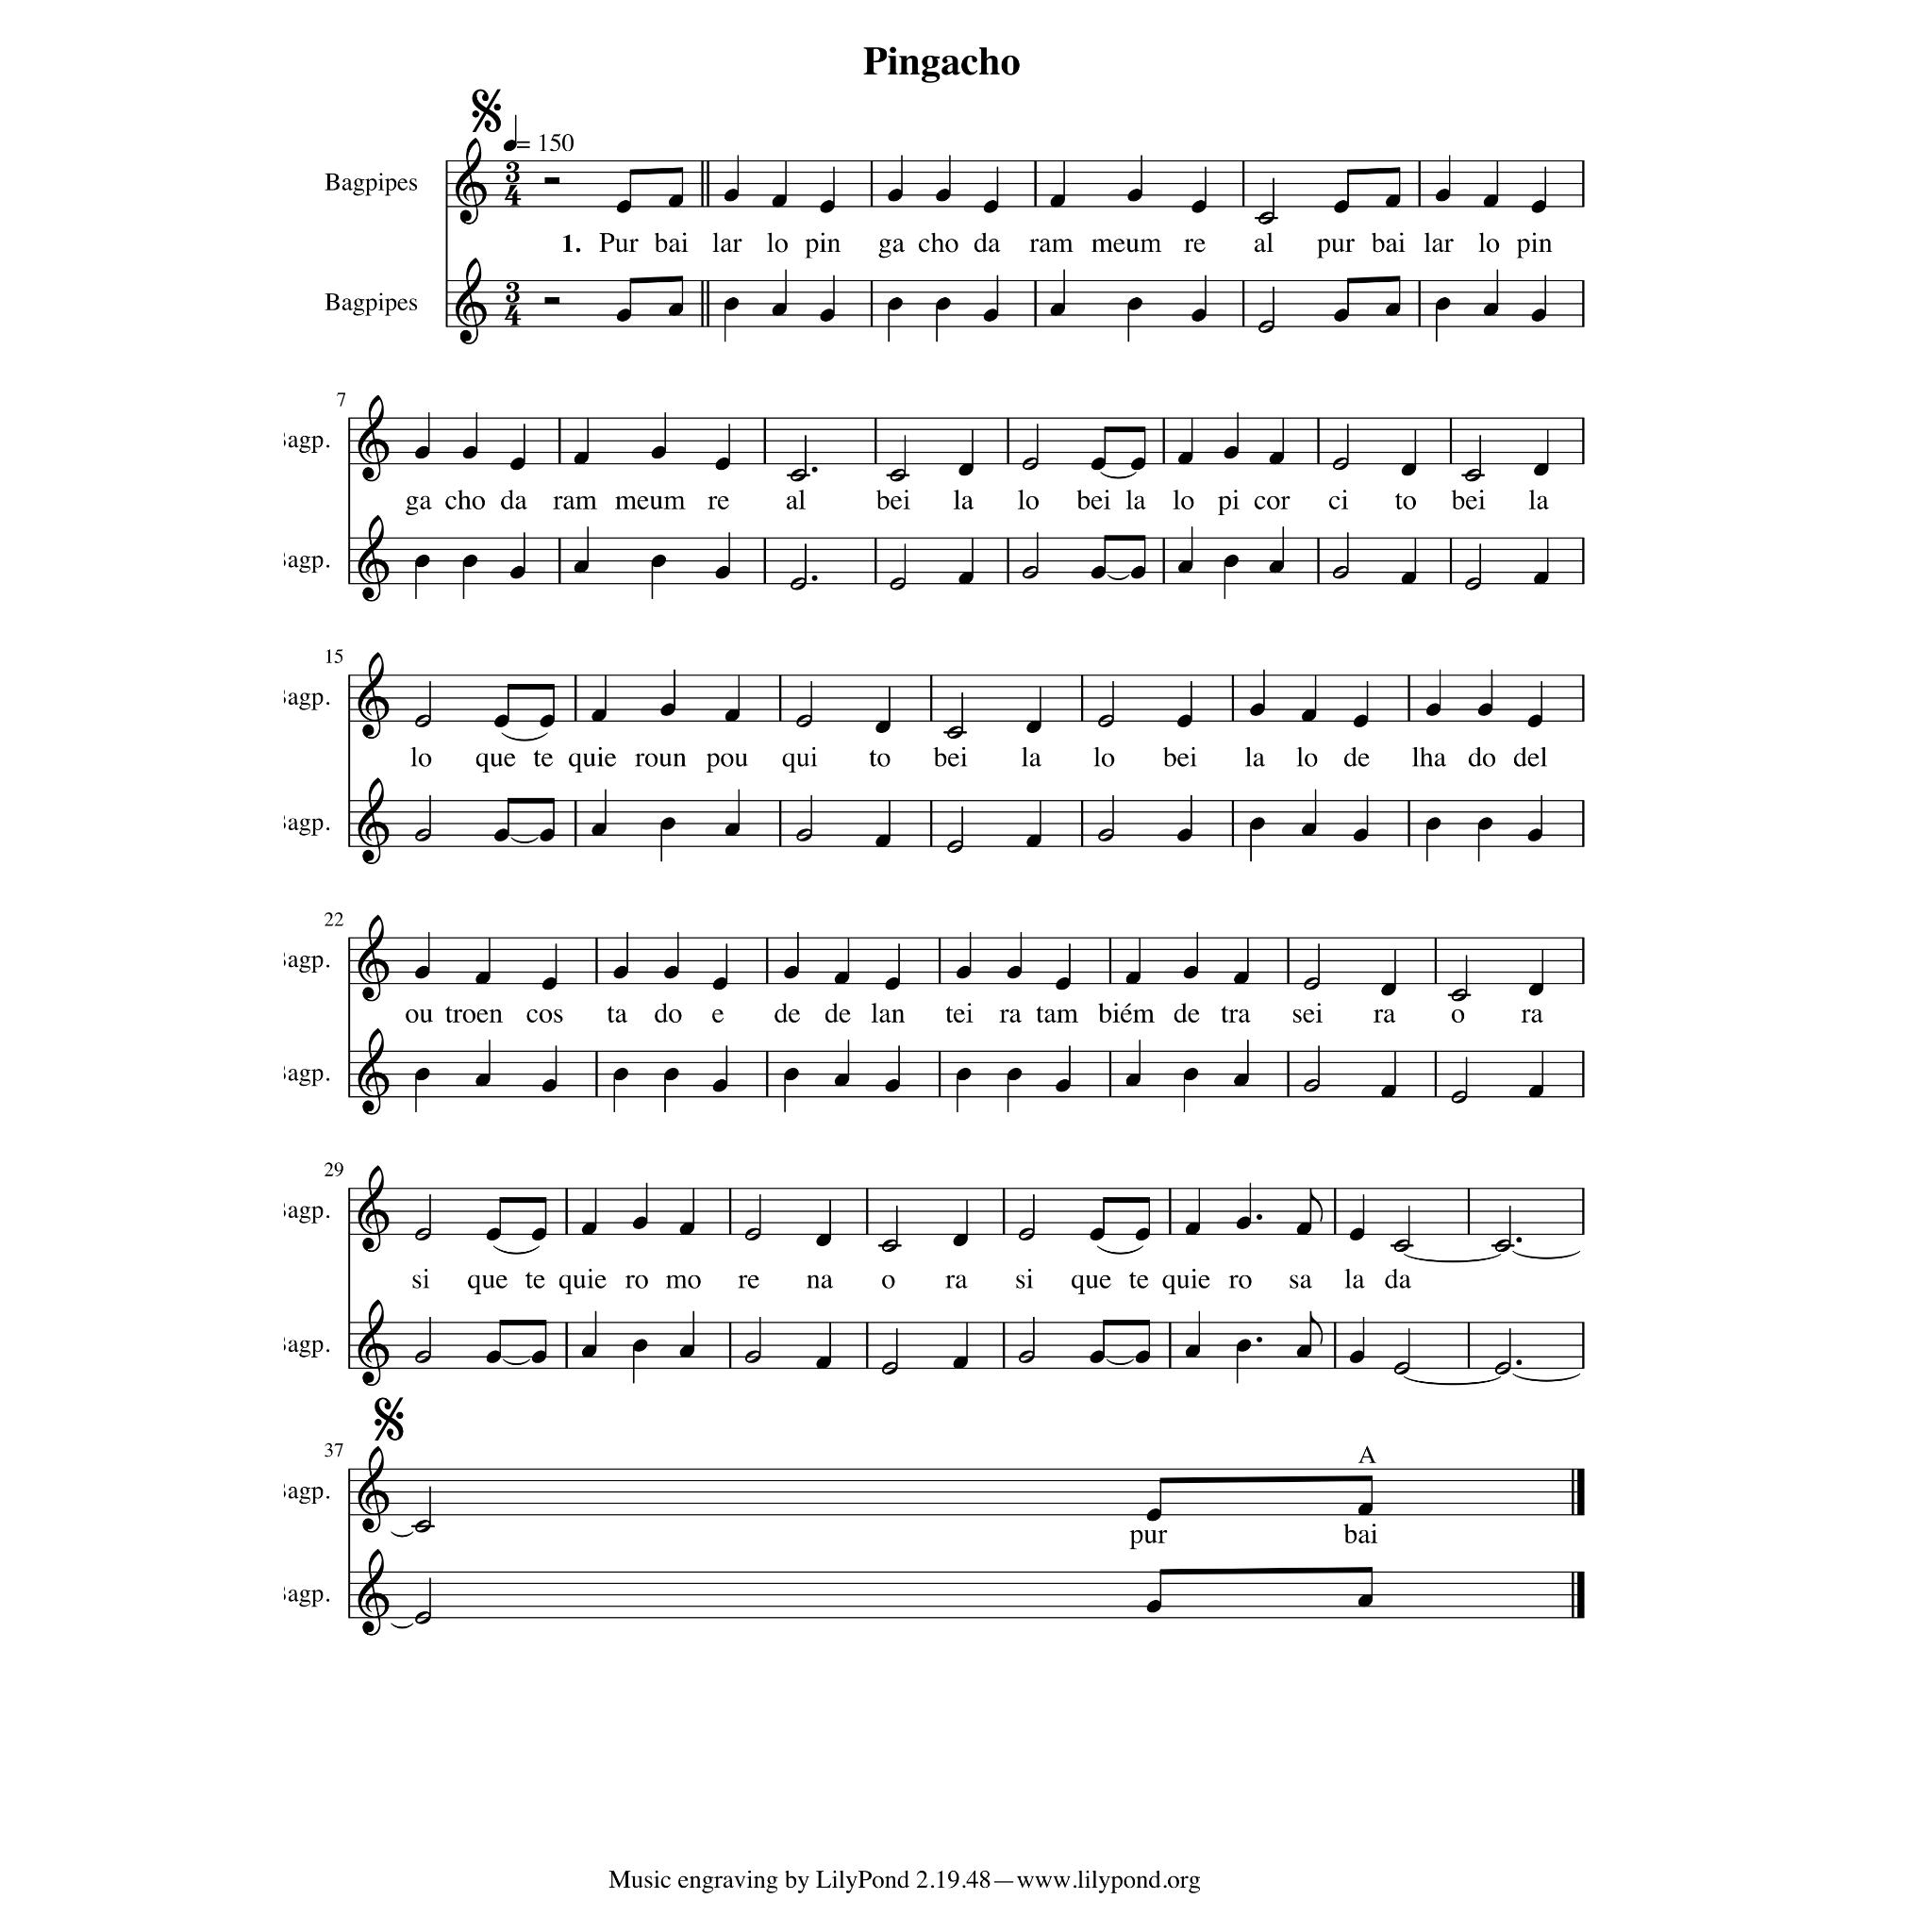flag8thUp: (1310, 1311, 1324, 1345), (1310, 1189, 1324, 1223)
gClef: (455, 138, 487, 225), (455, 258, 487, 345), (358, 394, 389, 483), (358, 1445, 389, 1534), (358, 515, 389, 602), (358, 777, 389, 864), (358, 653, 389, 740), (358, 1028, 389, 1115), (358, 915, 389, 1002), (358, 1300, 389, 1387), (358, 1166, 389, 1253), (358, 1549, 389, 1636)
noteheadBlack: (1127, 296, 1142, 311), (1436, 296, 1451, 311), (724, 296, 739, 311), (936, 296, 951, 311), (888, 296, 903, 311), (1534, 462, 1549, 477), (1401, 462, 1416, 477), (958, 462, 974, 477), (1146, 1507, 1161, 1523), (1386, 304, 1401, 317), (1386, 194, 1401, 208), (1334, 308, 1349, 322), (1334, 200, 1349, 213), (1127, 190, 1142, 203), (1191, 308, 1207, 322), (1191, 200, 1207, 213), (1531, 308, 1546, 322), (1531, 200, 1546, 213), (1436, 190, 1451, 203), (1483, 304, 1498, 317), (1483, 194, 1498, 208), (724, 190, 739, 203), (668, 304, 683, 317), (668, 194, 683, 208), (772, 194, 787, 208), (616, 308, 631, 322), (616, 200, 631, 213), (936, 190, 951, 203), (1050, 304, 1065, 317), (1050, 194, 1065, 208), (983, 308, 998, 322), (983, 200, 998, 213), (820, 308, 835, 322), (820, 200, 835, 213), (888, 190, 903, 203), (772, 304, 787, 317), (1224, 555, 1239, 568), (1224, 446, 1239, 459), (1269, 560, 1284, 574), (1269, 452, 1284, 465), (1091, 566, 1106, 579), (1130, 458, 1145, 471), (1091, 458, 1106, 471), (1177, 560, 1192, 574), (1177, 452, 1192, 465), (1130, 566, 1145, 579), (1534, 572, 1549, 585), (1401, 572, 1416, 585), (574, 560, 589, 574), (574, 452, 589, 465), (509, 566, 525, 579), (715, 566, 730, 579), (715, 458, 730, 471), (651, 555, 666, 568), (651, 446, 666, 459), (462, 446, 477, 459), (509, 458, 525, 471), (462, 555, 477, 568), (415, 555, 430, 568), (415, 446, 430, 459), (958, 572, 974, 585), (1026, 721, 1041, 734), (1301, 823, 1316, 836), (1354, 715, 1369, 728), (1250, 704, 1265, 717), (1250, 818, 1265, 831), (1301, 709, 1316, 723), (1026, 835, 1041, 848), (1177, 829, 1192, 842), (1177, 715, 1192, 728), (1527, 829, 1542, 842), (1527, 715, 1542, 728), (1426, 818, 1441, 831), (1426, 704, 1441, 717), (1354, 829, 1369, 842), (1477, 704, 1492, 717), (1477, 818, 1492, 831), (591, 823, 607, 836), (591, 709, 607, 723), (540, 829, 555, 842), (540, 715, 555, 728), (660, 818, 675, 831), (660, 704, 675, 717), (493, 829, 508, 842), (493, 715, 508, 728), (875, 835, 891, 848), (875, 721, 891, 734), (724, 709, 740, 723), (724, 823, 740, 836), (1183, 1068, 1198, 1081), (1183, 966, 1198, 979), (1234, 1074, 1249, 1087), (1234, 972, 1249, 985), (1056, 1079, 1071, 1092), (1056, 977, 1071, 991), (1007, 1068, 1022, 1081), (1007, 966, 1022, 979), (1125, 1074, 1141, 1087), (1125, 972, 1141, 985), (1528, 1085, 1543, 1098), (1528, 983, 1543, 996), (1381, 1085, 1396, 1098), (1381, 983, 1396, 996), (613, 1068, 628, 1081), (613, 966, 628, 979), (541, 1079, 557, 1092), (541, 977, 557, 991), (663, 1068, 678, 1081), (663, 966, 678, 979), (475, 1074, 491, 1087), (475, 972, 491, 985), (415, 1068, 430, 1081), (415, 966, 430, 979), (885, 1079, 900, 1092), (885, 977, 900, 991), (834, 1074, 849, 1087), (834, 972, 849, 985), (957, 1068, 972, 1081), (957, 966, 972, 979), (784, 1068, 799, 1081), (784, 966, 799, 979), (712, 1079, 727, 1092), (712, 977, 727, 991), (1236, 1217, 1251, 1230), (1349, 1351, 1364, 1364), (1236, 1340, 1251, 1353), (1296, 1344, 1311, 1357), (1349, 1228, 1364, 1241), (1296, 1223, 1311, 1236), (1090, 1351, 1105, 1364), (1090, 1228, 1105, 1241), (1185, 1344, 1200, 1357), (1185, 1223, 1200, 1236), (1135, 1351, 1150, 1364), (1135, 1228, 1150, 1241), (581, 1344, 596, 1357), (581, 1223, 596, 1236), (531, 1351, 546, 1364), (531, 1228, 546, 1241), (632, 1217, 647, 1230), (679, 1223, 694, 1236), (632, 1340, 647, 1353), (486, 1351, 501, 1364), (486, 1228, 501, 1241), (953, 1357, 968, 1370), (953, 1234, 968, 1247), (679, 1344, 694, 1357), (816, 1357, 831, 1370), (816, 1234, 831, 1247), (1146, 1600, 1161, 1613), (1357, 1594, 1373, 1607), (1357, 1503, 1373, 1516)
noteheadHalf: (946, 840, 963, 855), (1257, 321, 1274, 334), (1257, 211, 1274, 225), (1332, 566, 1349, 579), (1332, 458, 1349, 471), (1465, 577, 1482, 591), (1465, 469, 1482, 482), (890, 577, 907, 591), (1022, 566, 1039, 579), (1022, 458, 1039, 471), (890, 469, 907, 482), (790, 577, 807, 591), (790, 469, 807, 482), (1097, 829, 1114, 842), (1097, 715, 1114, 728), (414, 829, 431, 842), (414, 715, 431, 728), (946, 726, 963, 740), (795, 829, 812, 842), (795, 715, 812, 728), (1303, 1079, 1320, 1092), (1303, 977, 1320, 991), (1451, 1091, 1468, 1104), (1451, 989, 1468, 1002), (1393, 1362, 1410, 1375), (1393, 1240, 1410, 1253), (1494, 1362, 1511, 1375), (1494, 1240, 1511, 1253), (414, 1351, 431, 1364), (414, 1228, 431, 1241), (881, 1362, 898, 1375), (881, 1240, 898, 1253), (1018, 1351, 1035, 1364), (1018, 1228, 1035, 1241), (744, 1351, 761, 1364), (744, 1228, 761, 1241), (414, 1611, 431, 1624), (414, 1520, 431, 1533)
restHalf: (544, 297, 559, 305), (544, 177, 559, 185)
